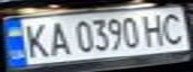0: (72, 17, 93, 54), (121, 14, 142, 50)
3: (90, 16, 109, 52)
9: (106, 16, 127, 51)
A: (45, 19, 72, 56)
C: (157, 10, 190, 46)
H: (139, 11, 172, 47)
K: (18, 20, 51, 60)
